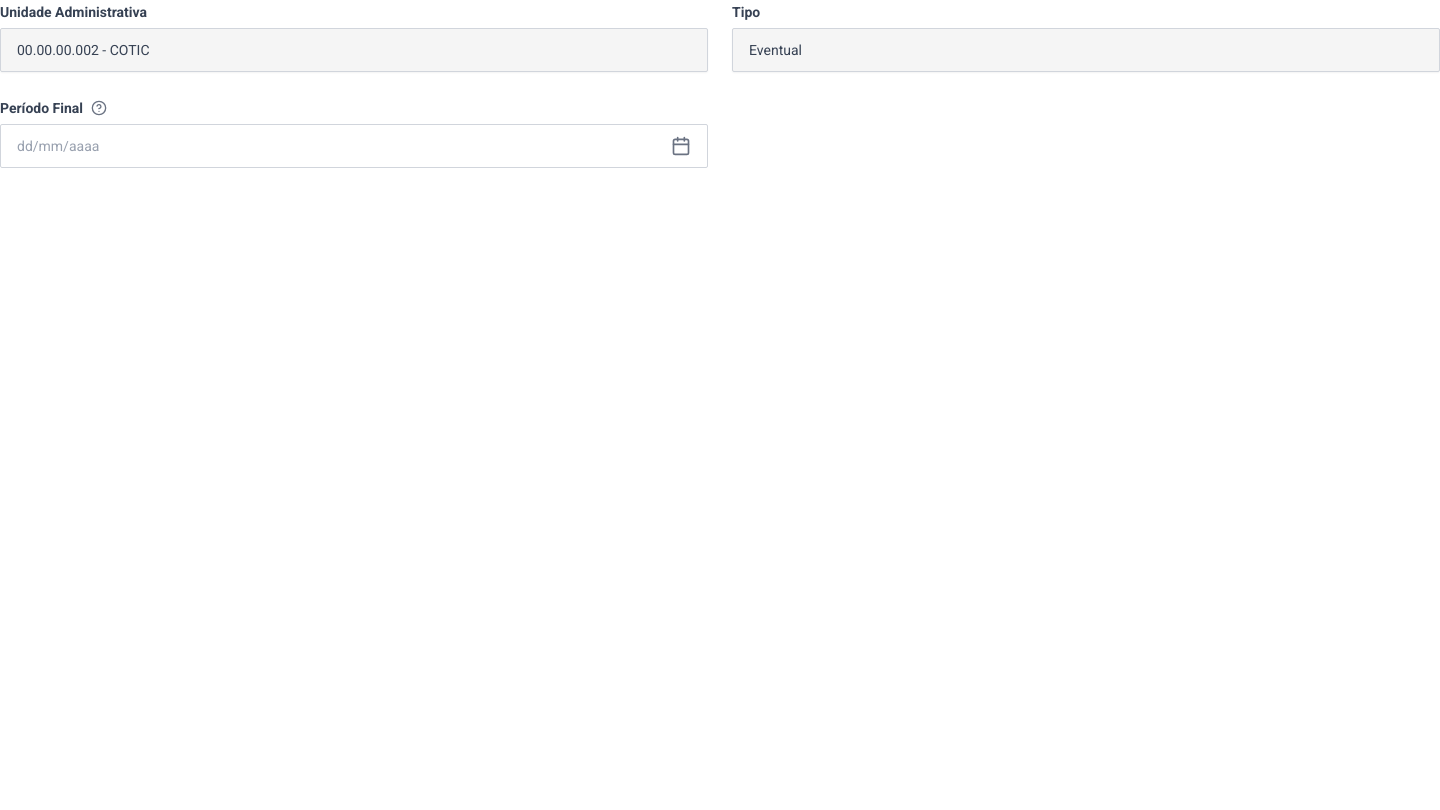
Test: ConciliacaoForm › desabilita o botao Hoje quando isDateDisabled bloqueia a data atual
Click the button with aria-label "Selecionar data": [58, 146] box [0,124,708,168]
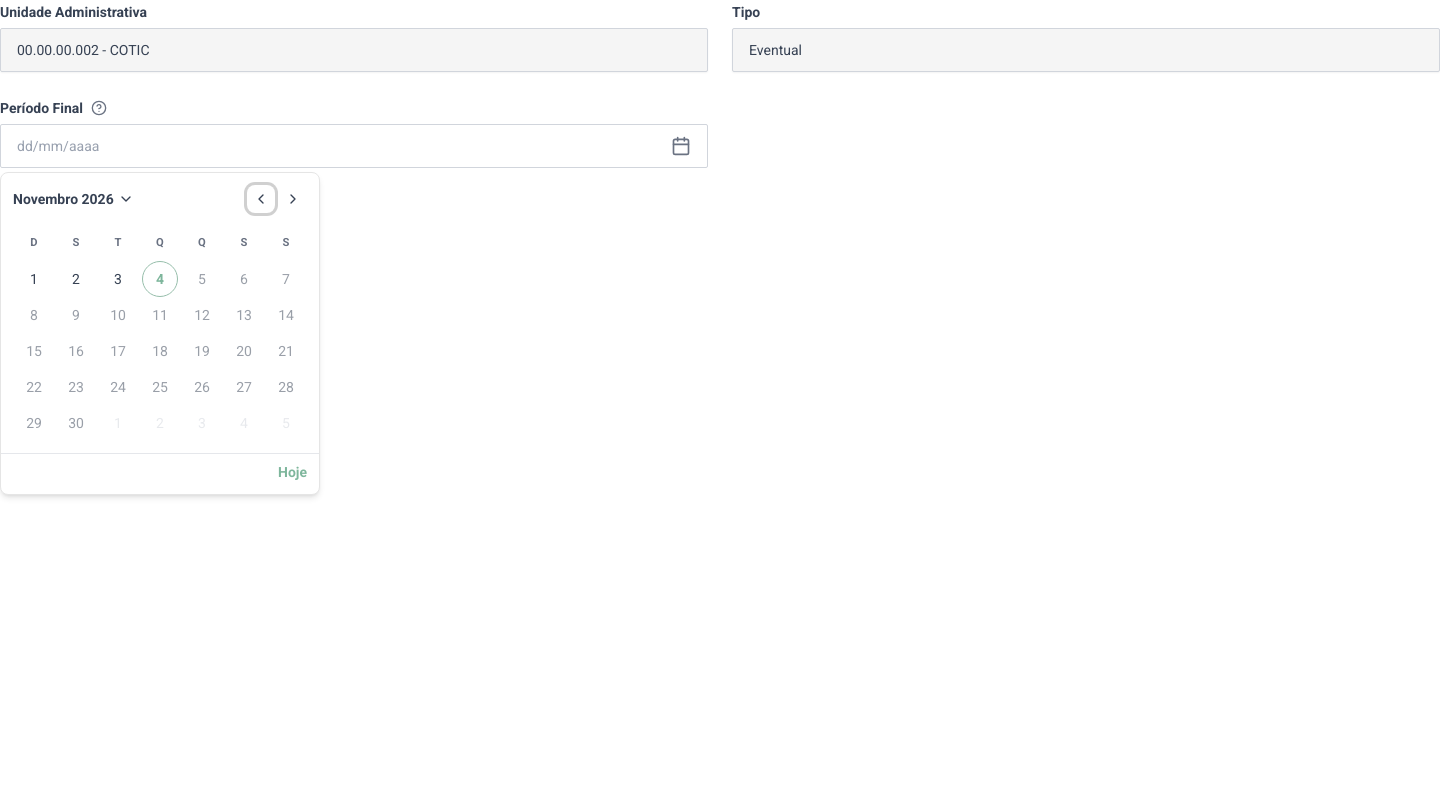
Expected: the button "Hoje" is disabled, [278,462,307,482]
